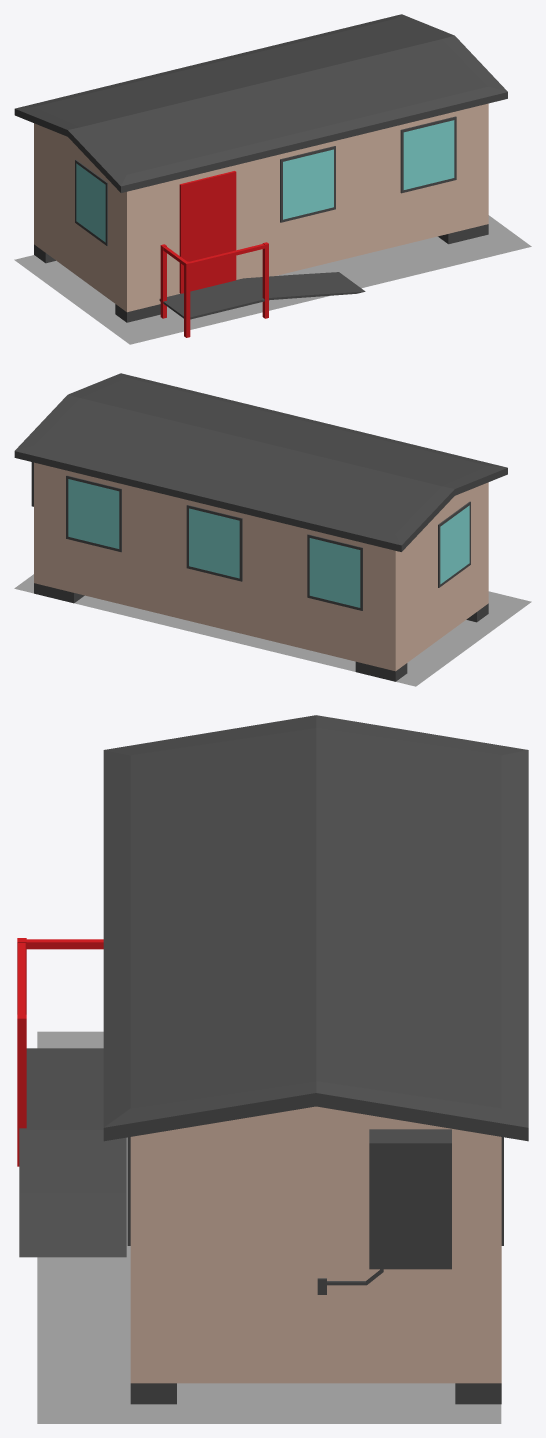
The model's file is portable-small.fbx.
3 renders of one model, top to bottom at view 1: azimuth 30°, elevation 25°; view 2: azimuth 150°, elevation 25°; view 3: azimuth 270°, elevation 25°, orthographic. The views are drawn at different scales.
Visible parts, largest first — view 1: portable-small; view 2: portable-small; view 3: portable-small.
Boxes of the visible parts, x1,y1,x2,y2 form: portable-small: (14, 14, 531, 344); portable-small: (14, 373, 531, 686); portable-small: (17, 715, 528, 1423).
Bounding box in the file's own units: 200 × 77.95 × 110.
